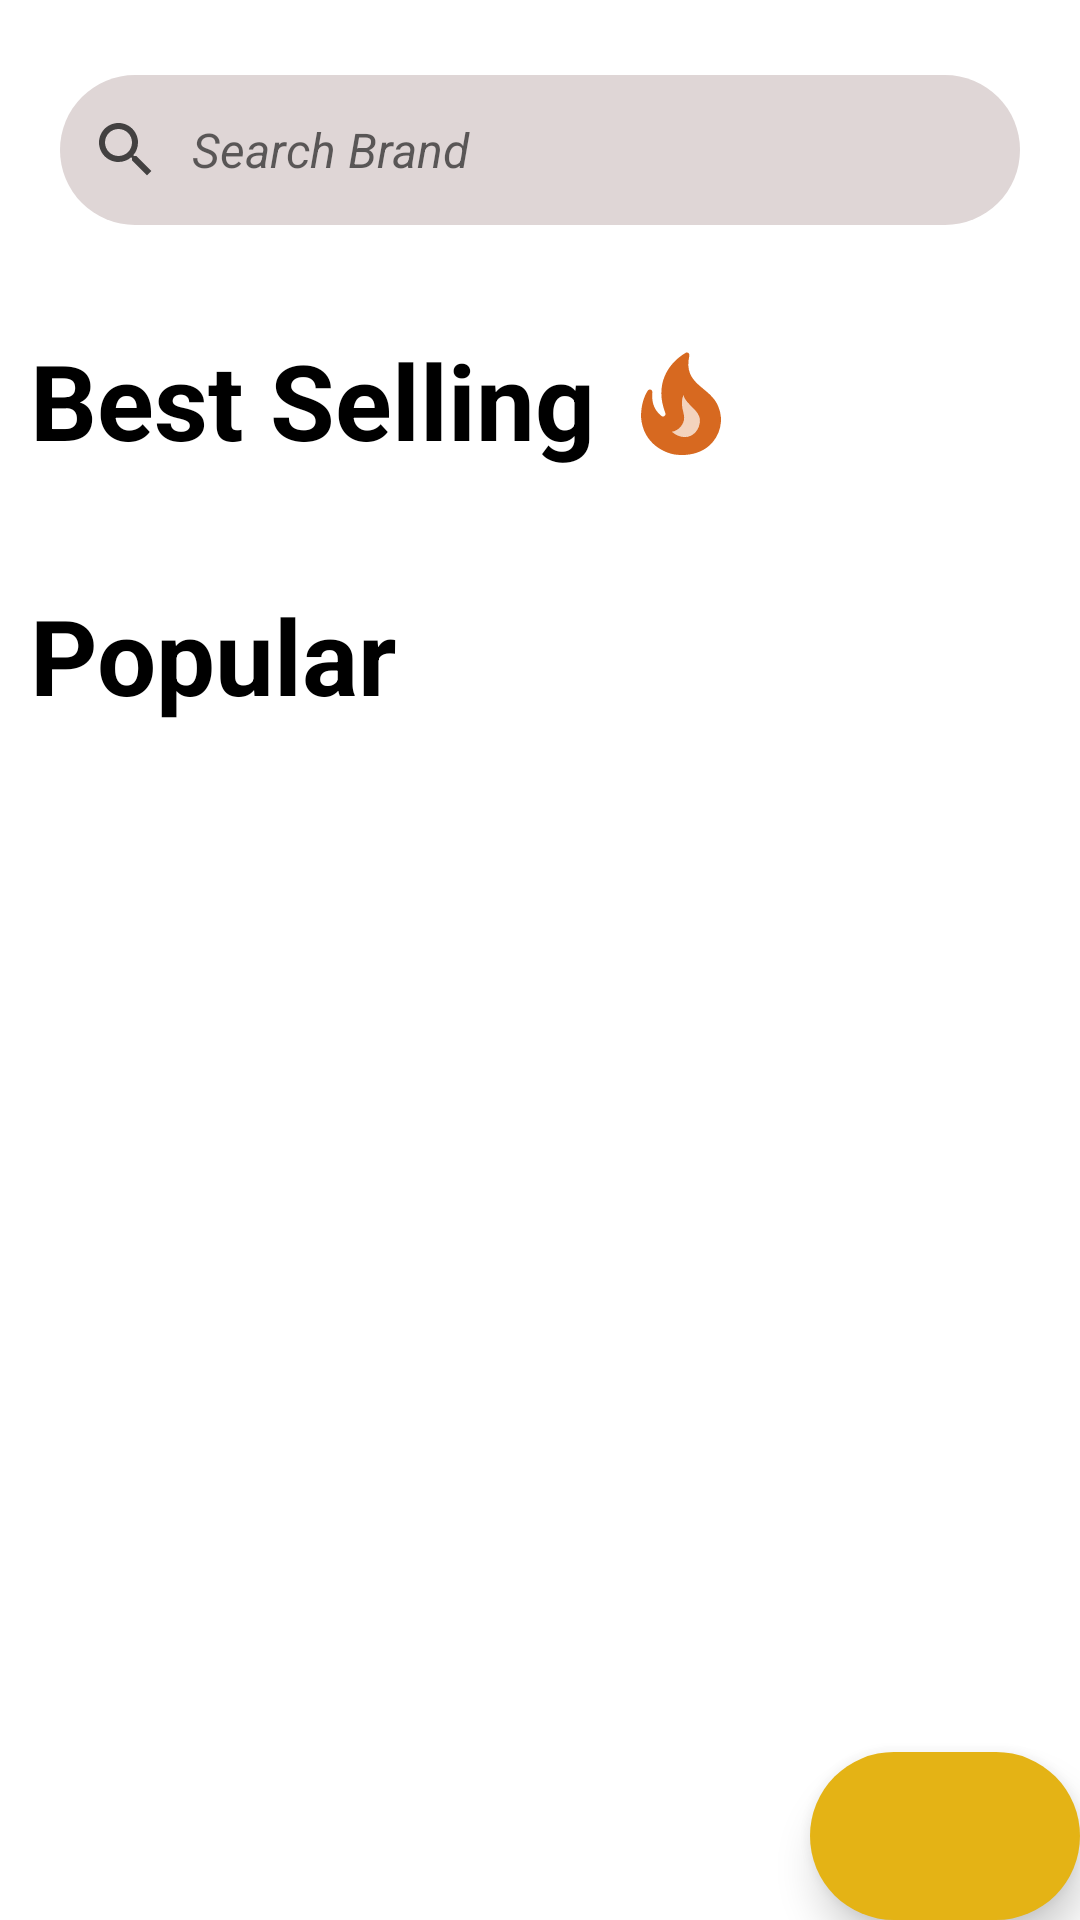

Screen size 1080x1920. Icon name, then its box in pixels as {"x1": x1, "y1": y1, "x2": x2, "y2": y2}:
fire: {"x1": 641, "y1": 352, "x2": 721, "y2": 455}
